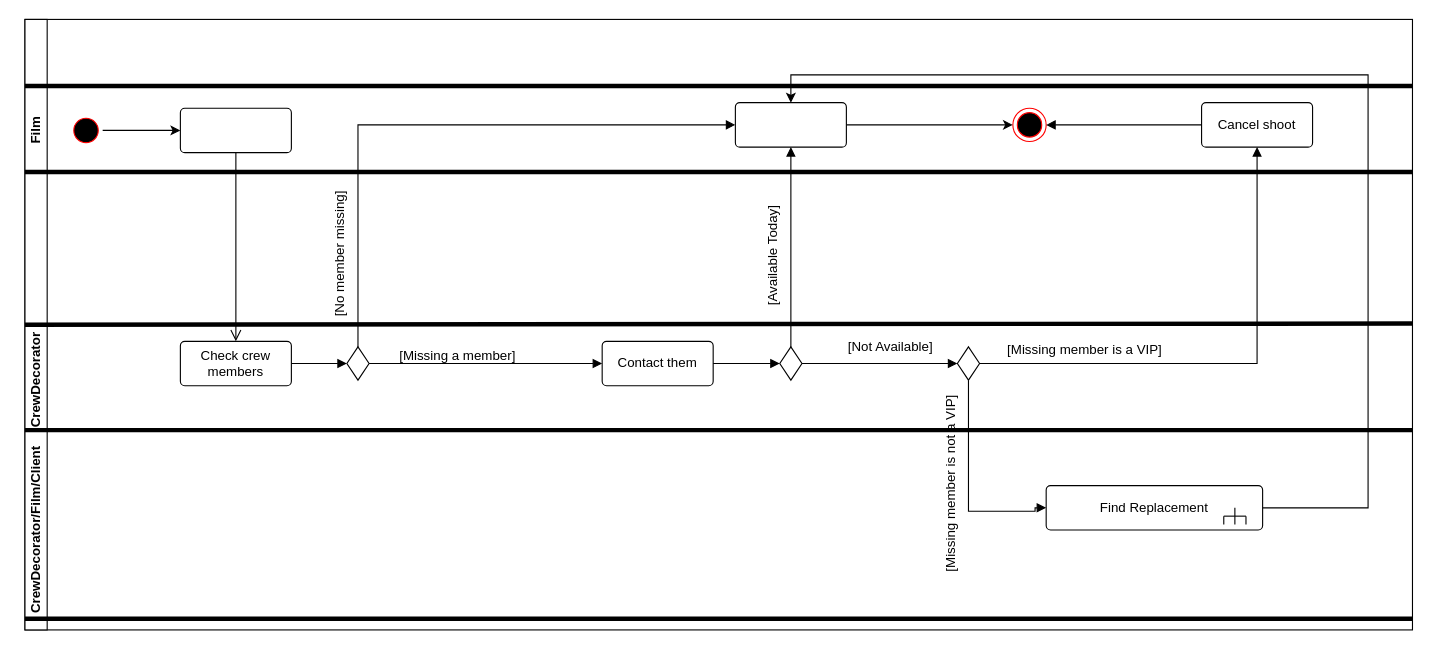
Image size: 1434x649. Some labels were removed from this diagram. The box of each missing label's shape, as (x1, y1, x2, y2) in pixels:
Not Filming: (179, 107, 291, 153)
Start shooting: (734, 102, 846, 147)
